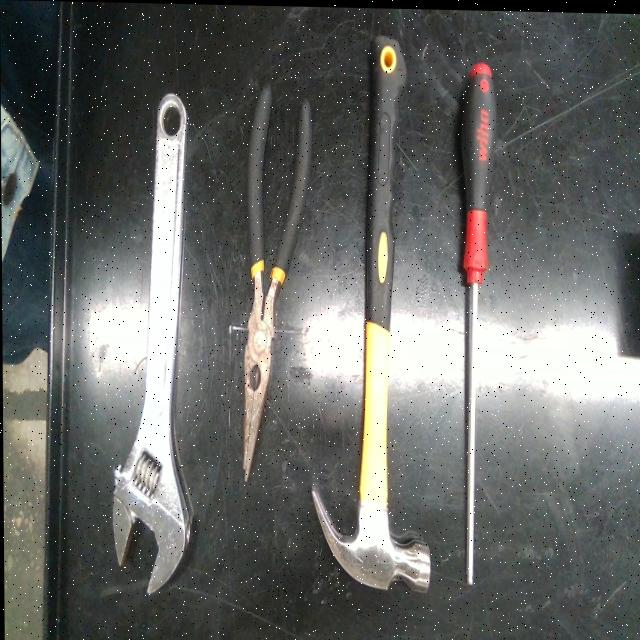Screwdriver: (462, 60, 496, 584)
